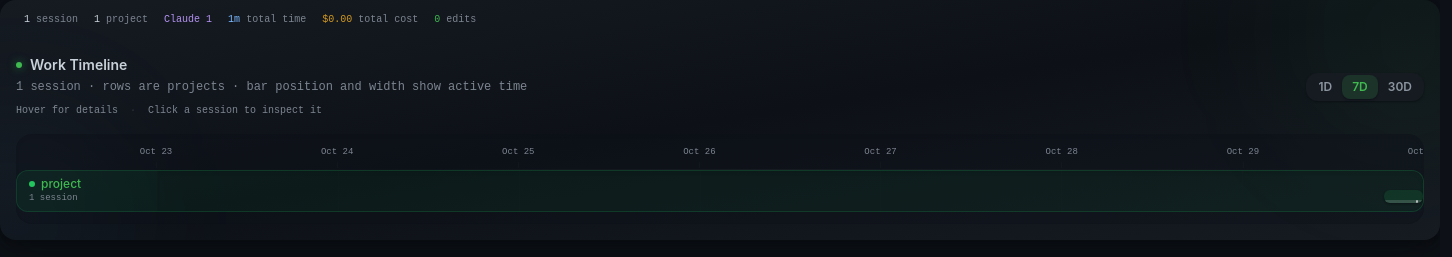
SessionRelationshipsView timeline tooltip › renders the hover card outside the scrollable timeline pane
Hover over the button named "Open Hover session" at x=1403, y=196, box 1384,190 -> 1423,203
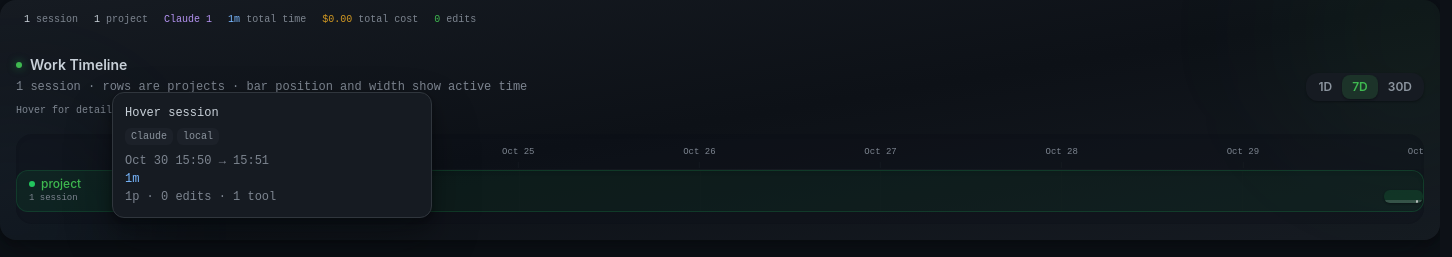
Check: the element with class "fixed" is shown, box 112,92 -> 432,218
Check: the element with class "fixed" shows "Hover session", box 125,106 -> 219,120
